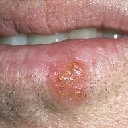Cold Sore: (56, 61, 86, 90)
